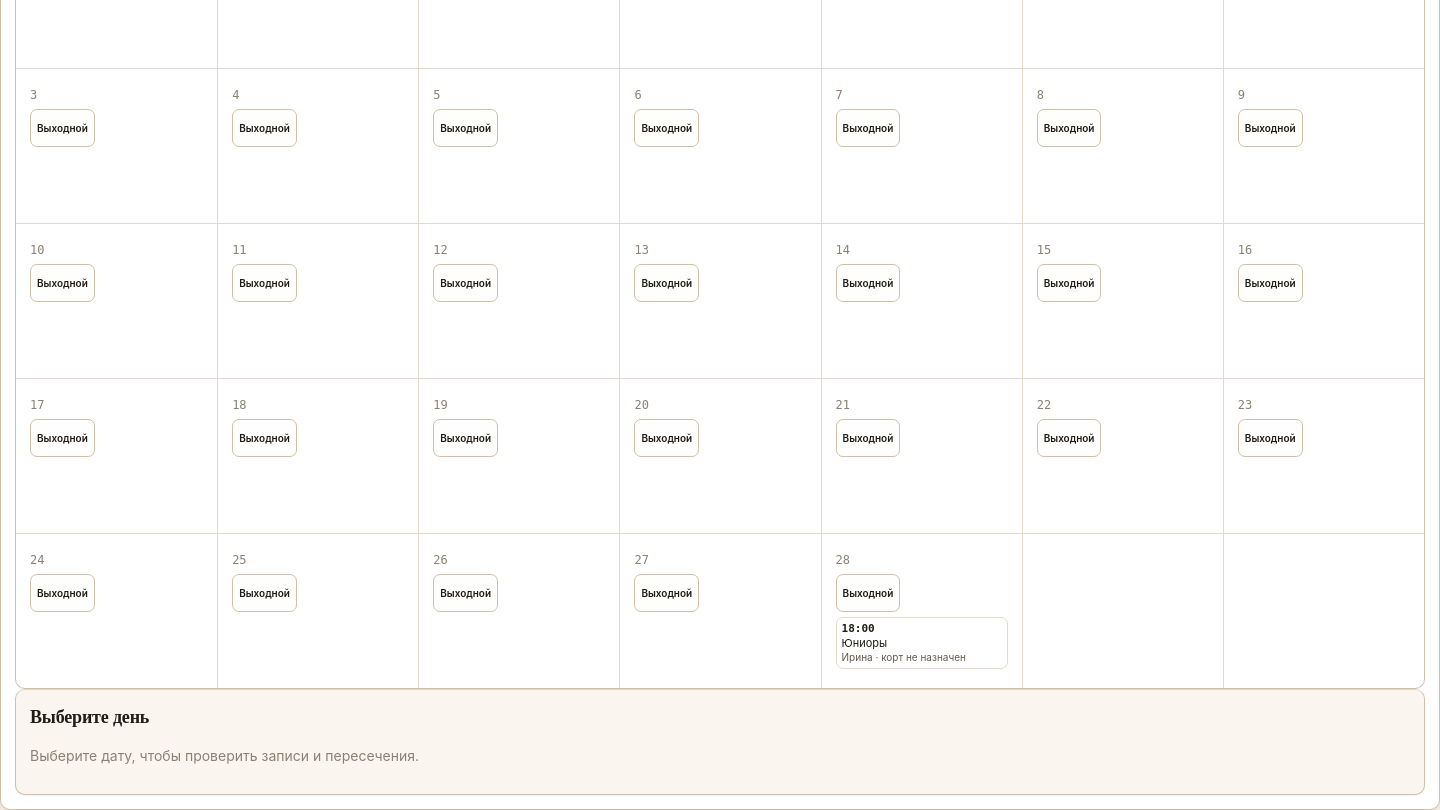
Test: SchedulePlanner › shows every server diagnostic once when a dated entry is selected
The width and height of the screenshot is (1440, 810).
(page scrolled)
What coordinates should you click on to do the following:
click the button named "2026-08-28, занятий: 1"
I would click on:
 (922, 559)
Its box is [836,552,1008,567].
(page scrolled)
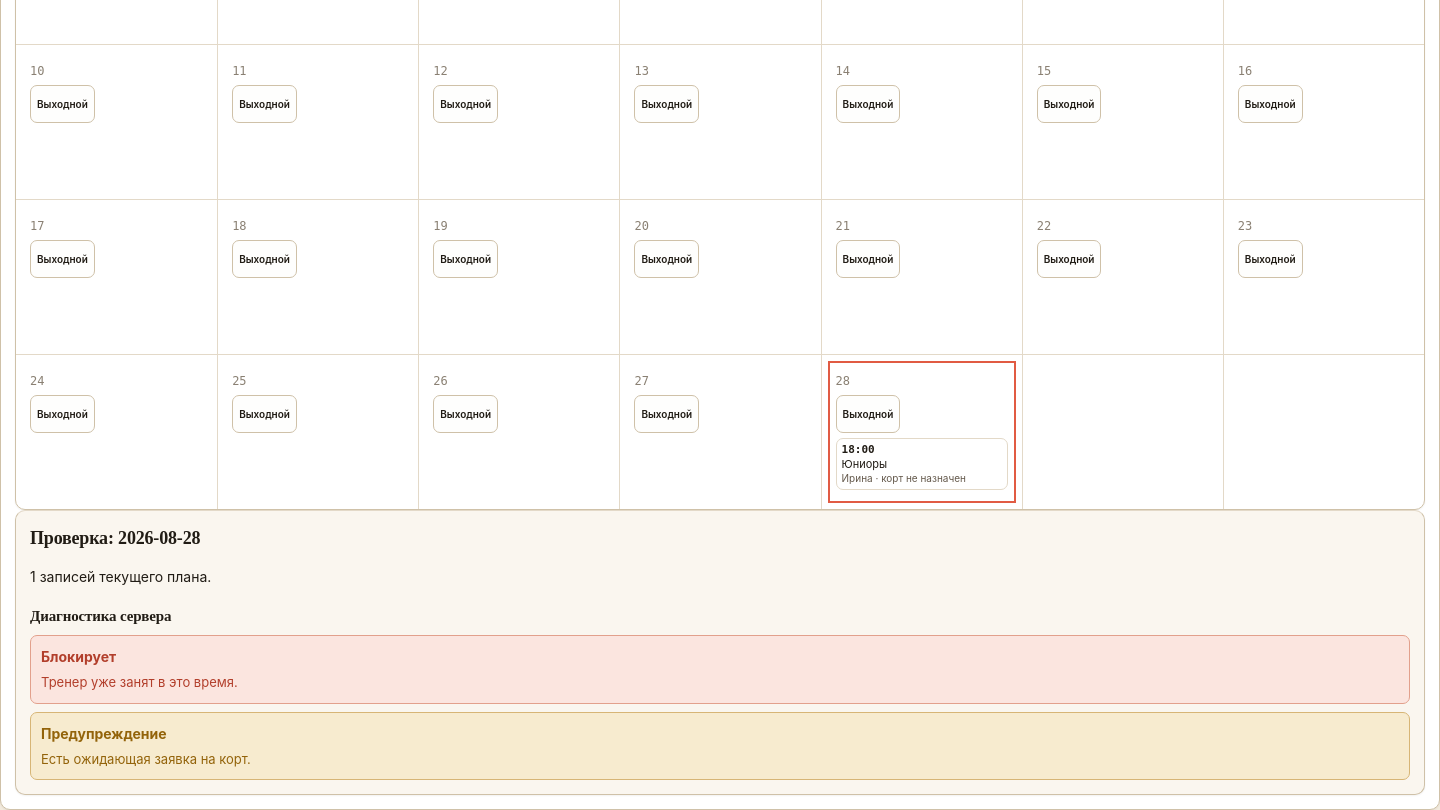
Check: the text "Тренер уже занят в это время." is shown once, box [41,674,238,690]
Check: the text "Есть ожидающая заявка на корт." is shown, box [41,751,251,767]
